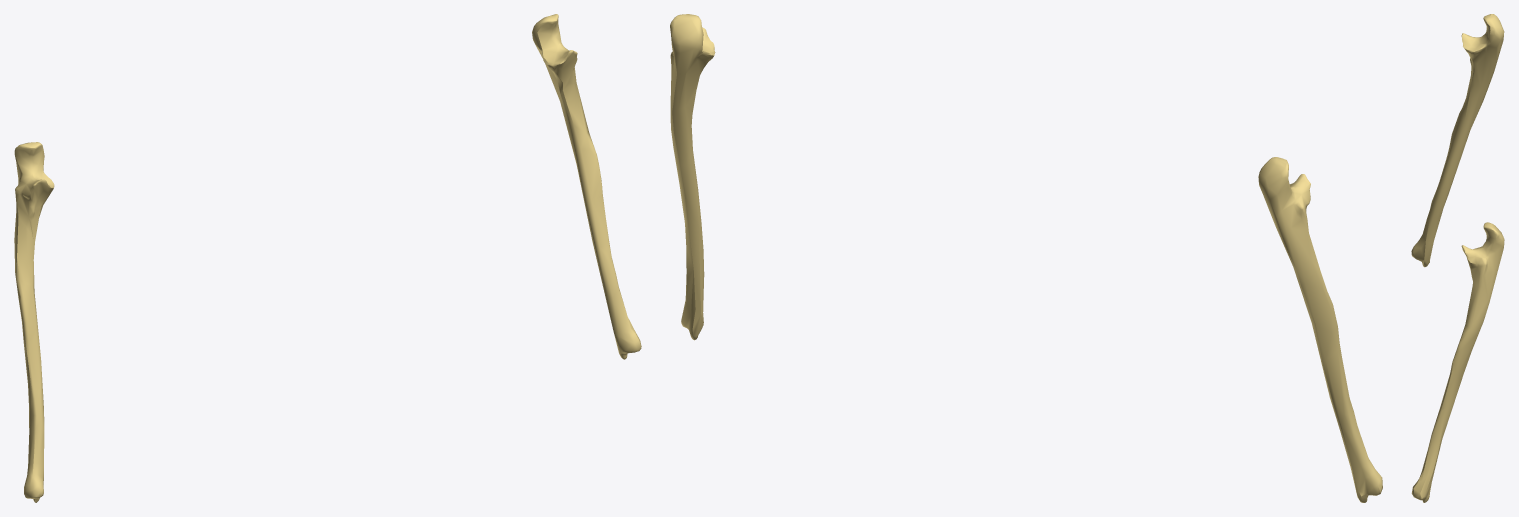
File: elbow-forearm.glb
The picture shows the model from 3 angles, left to right: view 1: azimuth 30°, elevation 25°; view 2: azimuth 150°, elevation 25°; view 3: azimuth 270°, elevation 25°; orthographic projection. The views are drawn at different scales.
Visible parts, largest first — view 1: elbow-forearm:ulna:isa:FJ3286, elbow-forearm:ulna:isa:FJ3391; view 2: elbow-forearm:ulna:isa:FJ3391, elbow-forearm:ulna:isa:FJ3286; view 3: elbow-forearm:ulna:isa:FJ3286, elbow-forearm:ulna:isa:FJ3391.
Boxes of the visible parts, x1,y1,x2,y2 form: elbow-forearm:ulna:isa:FJ3286: (532, 14, 641, 359); elbow-forearm:ulna:isa:FJ3391: (14, 142, 54, 502); elbow-forearm:ulna:isa:FJ3391: (1258, 157, 1382, 502); elbow-forearm:ulna:isa:FJ3286: (670, 14, 715, 340); elbow-forearm:ulna:isa:FJ3286: (1411, 222, 1504, 502); elbow-forearm:ulna:isa:FJ3391: (1411, 14, 1504, 267).
Size of the model in its own units: 0.4943 by 0.2475 by 0.0789.
